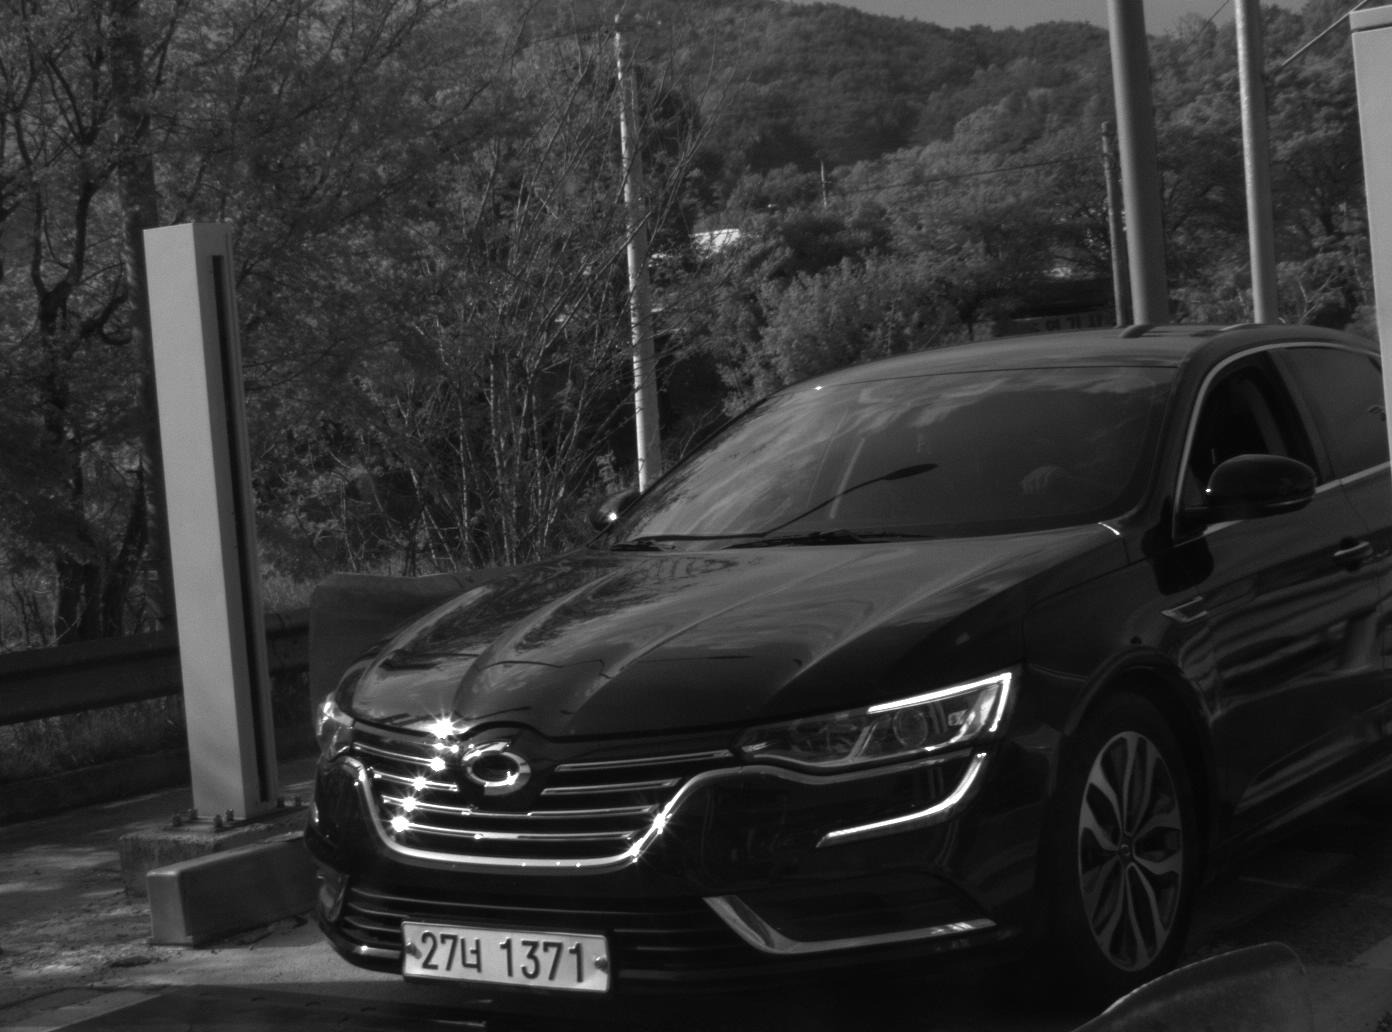car: (300, 319, 1392, 1009)
plate: (397, 916, 612, 998)
